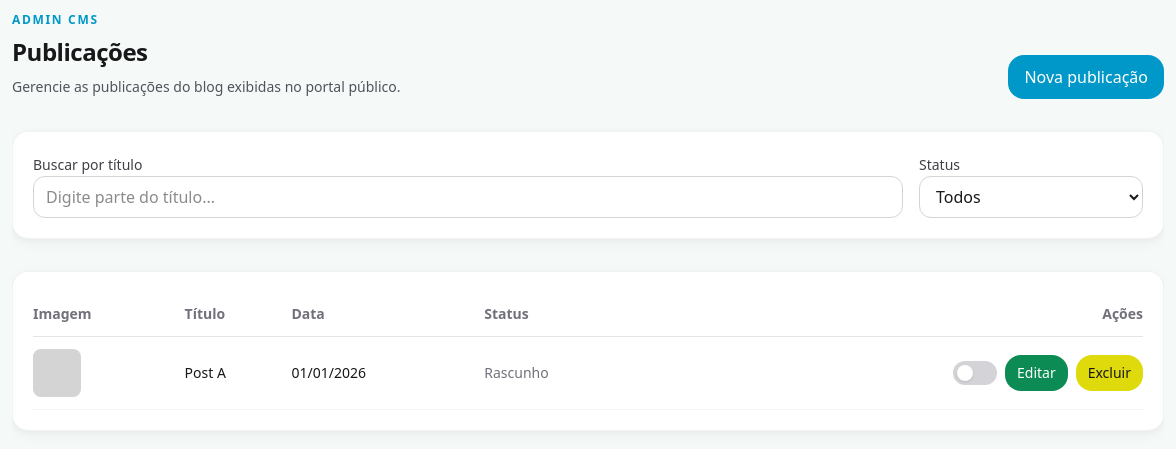
Test: AdminBlogPostsListPage › exclui uma publicação ao clicar em Excluir
The image size is (1176, 449).
Expected: the text "Post A" is shown, [185,336,292,409]
Click the button "Excluir". click: (1109,373)
box: [1076,355,1143,391]
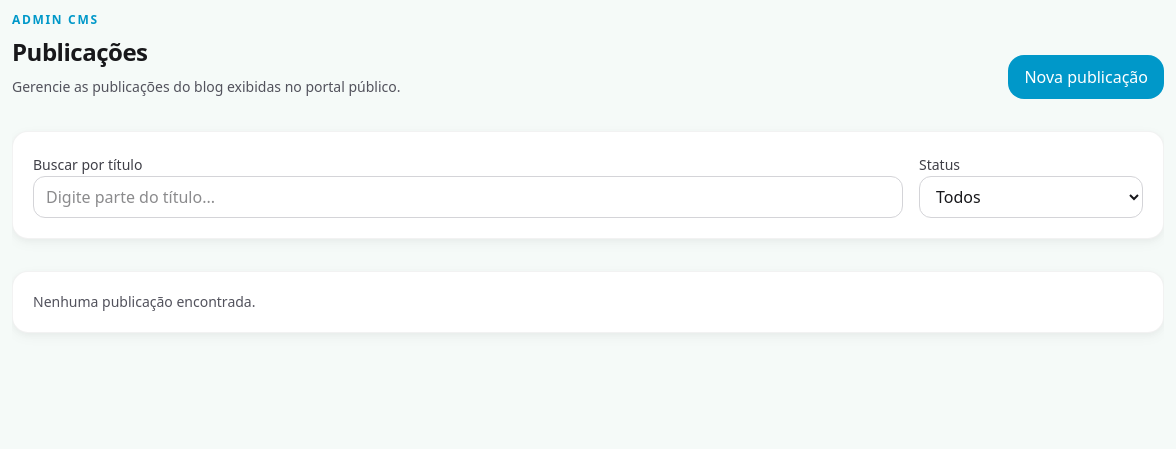
Now the text "Post A" is gone
